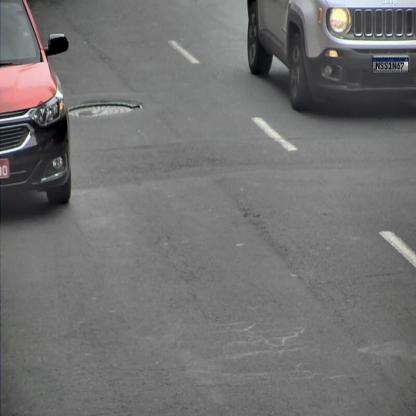PlacaM: (372, 58, 409, 72)
